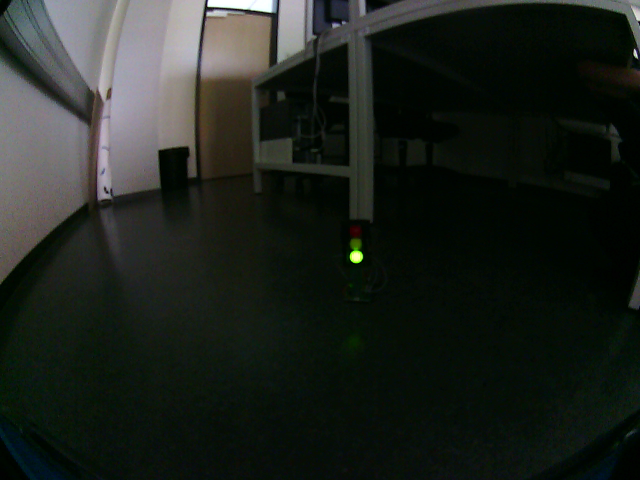green trafficlight: (344, 222, 367, 267)
